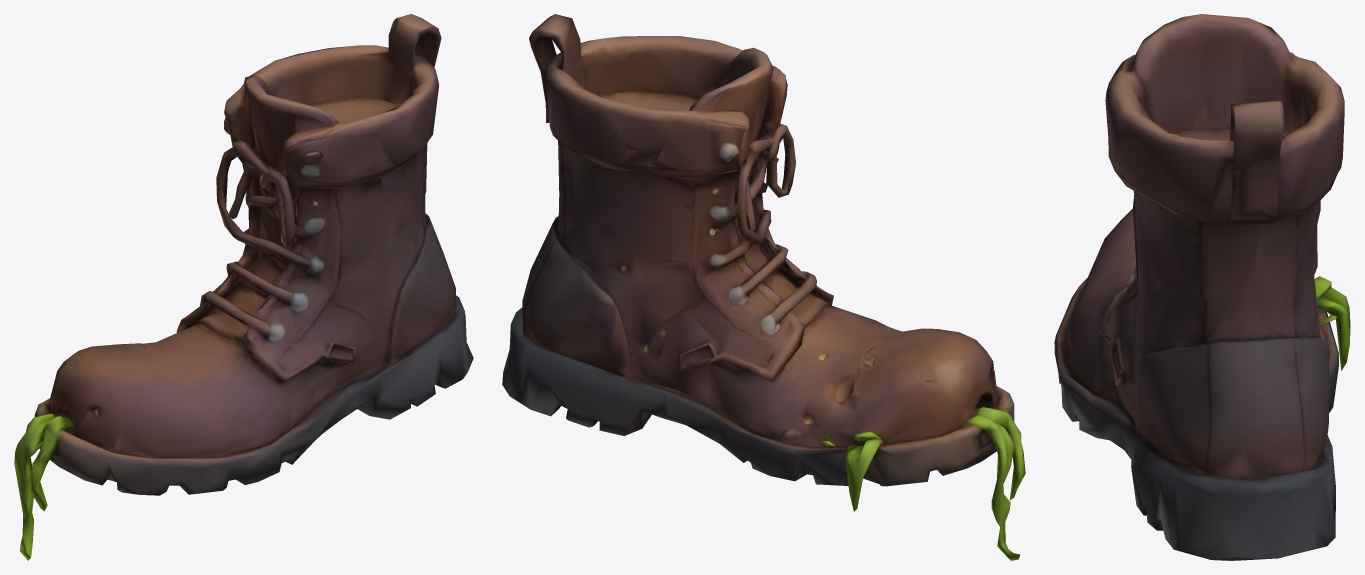
Rendered from junk-boot.glb.
3 views of the same model, side by side, from view 1: azimuth 30°, elevation 25°; view 2: azimuth 150°, elevation 25°; view 3: azimuth 270°, elevation 25° (orthographic). The views are drawn at different scales.
Visible parts, largest first — view 1: tripo_node_ec8d5189-ccc0-45e5-9f8e-bf541cbc6af1; view 2: tripo_node_ec8d5189-ccc0-45e5-9f8e-bf541cbc6af1; view 3: tripo_node_ec8d5189-ccc0-45e5-9f8e-bf541cbc6af1.
Boxes of the visible parts, left/top/right/bottom form: tripo_node_ec8d5189-ccc0-45e5-9f8e-bf541cbc6af1: left=14, top=14, right=473, bottom=560; tripo_node_ec8d5189-ccc0-45e5-9f8e-bf541cbc6af1: left=502, top=14, right=1025, bottom=560; tripo_node_ec8d5189-ccc0-45e5-9f8e-bf541cbc6af1: left=1054, top=14, right=1350, bottom=560.
Size of the model in its own units: 0.9994 by 0.8802 by 0.4337.
Materials: 1 (1 with a texture image).
